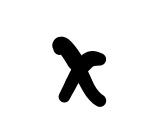mult: (52, 34, 106, 109)
